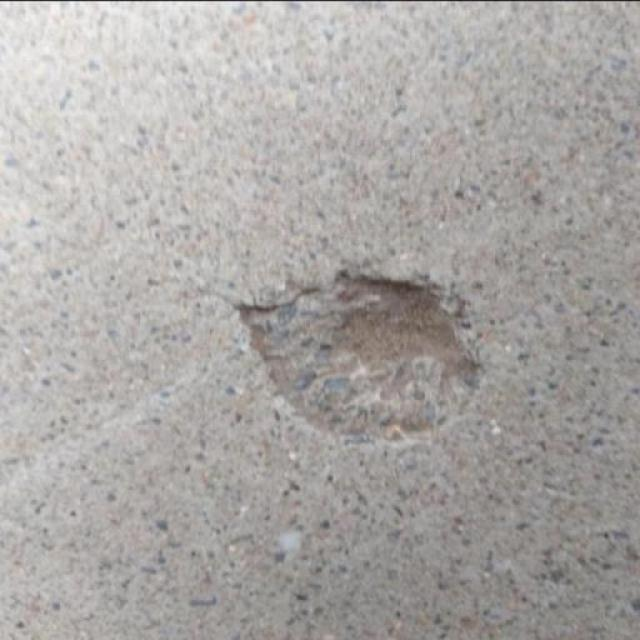D10: (236, 268, 481, 441)
